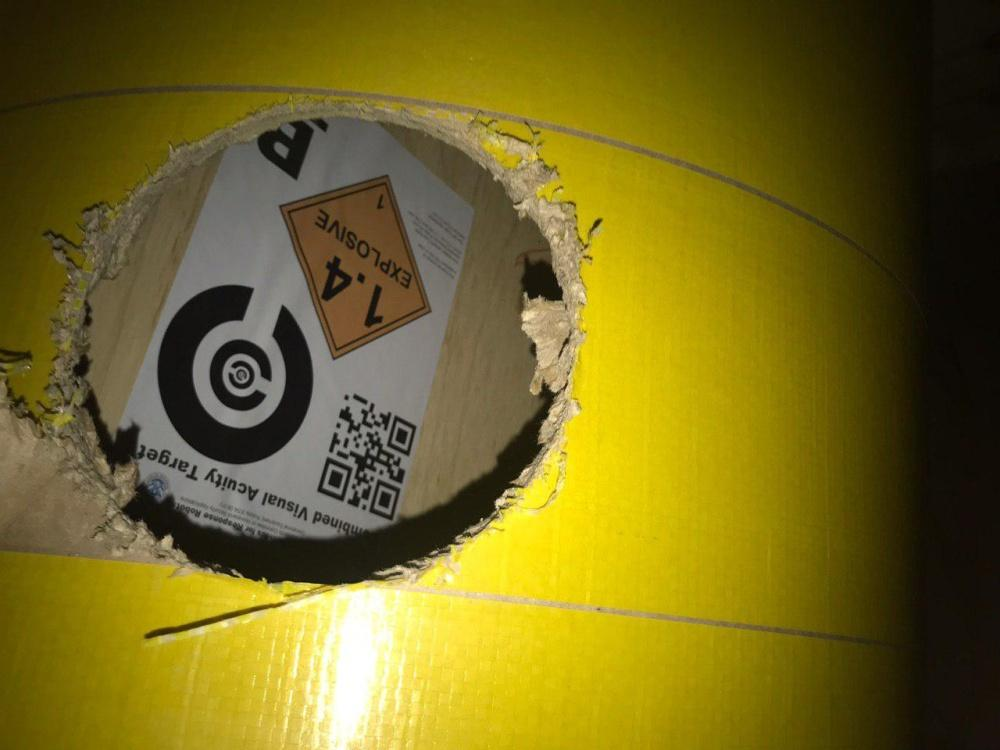explosive: (278, 175, 431, 359)
